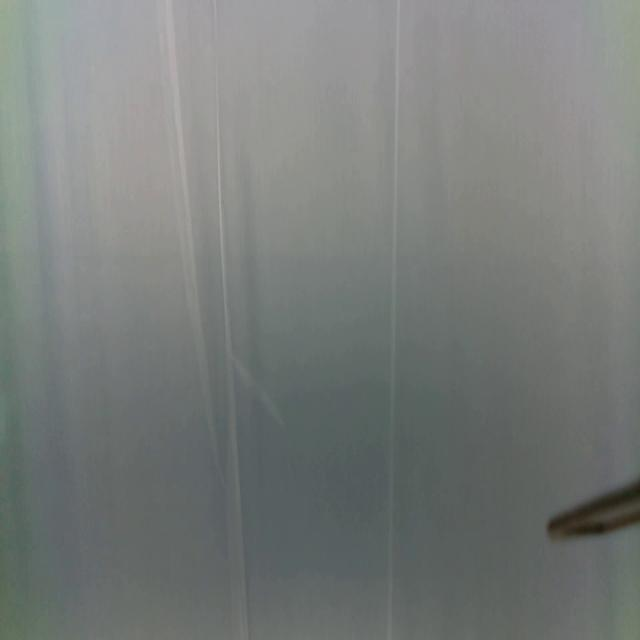crease: (157, 0, 215, 461), (212, 1, 250, 640), (386, 0, 404, 640), (237, 359, 288, 435)
